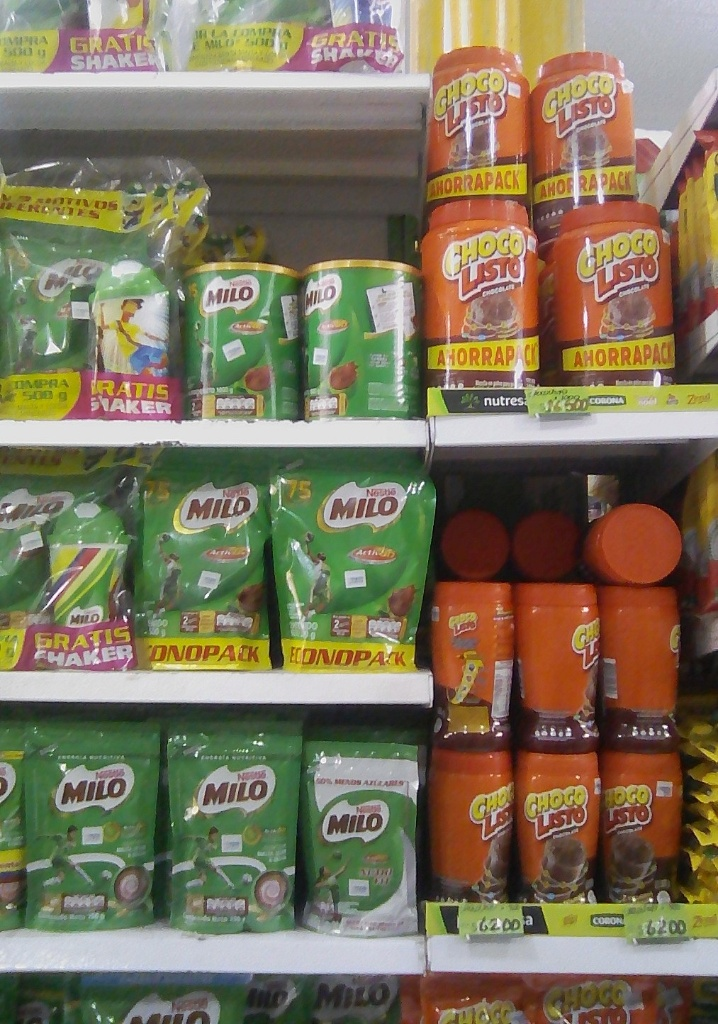COL0170103TRR00100: (427, 47, 533, 223)
COL0170103TRR30000: (436, 576, 522, 751)
COL0170203DYP25000: (22, 721, 162, 946)
COL0170203DYP50000: (140, 450, 279, 668)
COL0170205DYP20000: (303, 730, 419, 937)
